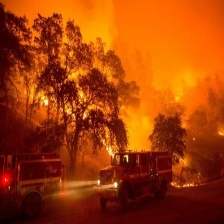fire: (89, 120, 117, 159), (39, 88, 55, 109), (170, 177, 198, 189)
smoke: (65, 4, 224, 132)
